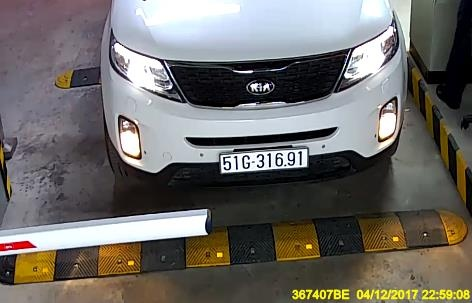plate: (211, 145, 316, 176)
